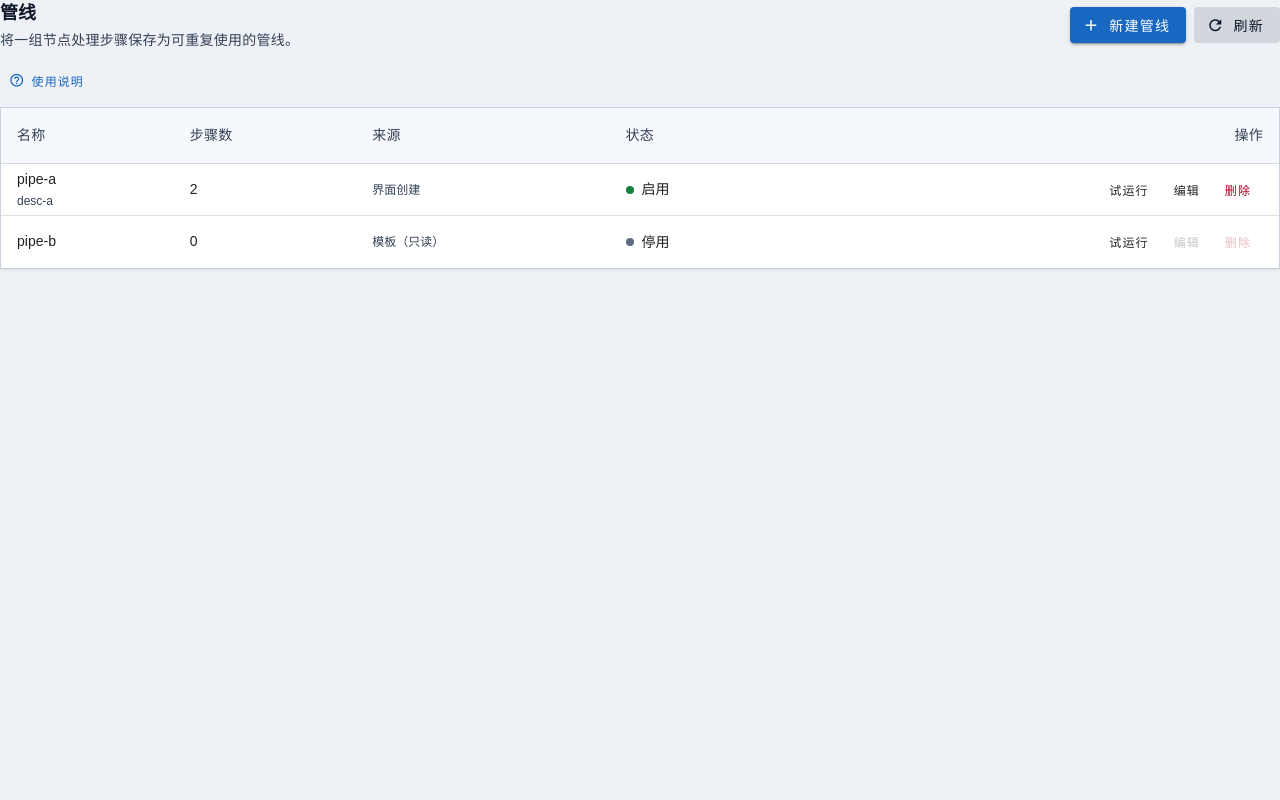
PipelinesPage › 删除确认对话框：确认后调 deletePipeline
The width and height of the screenshot is (1280, 800).
Click the button with test id "pipeline-delete" in the row of "pipe-a". click: (1237, 189)
box: [1212,175,1263,203]
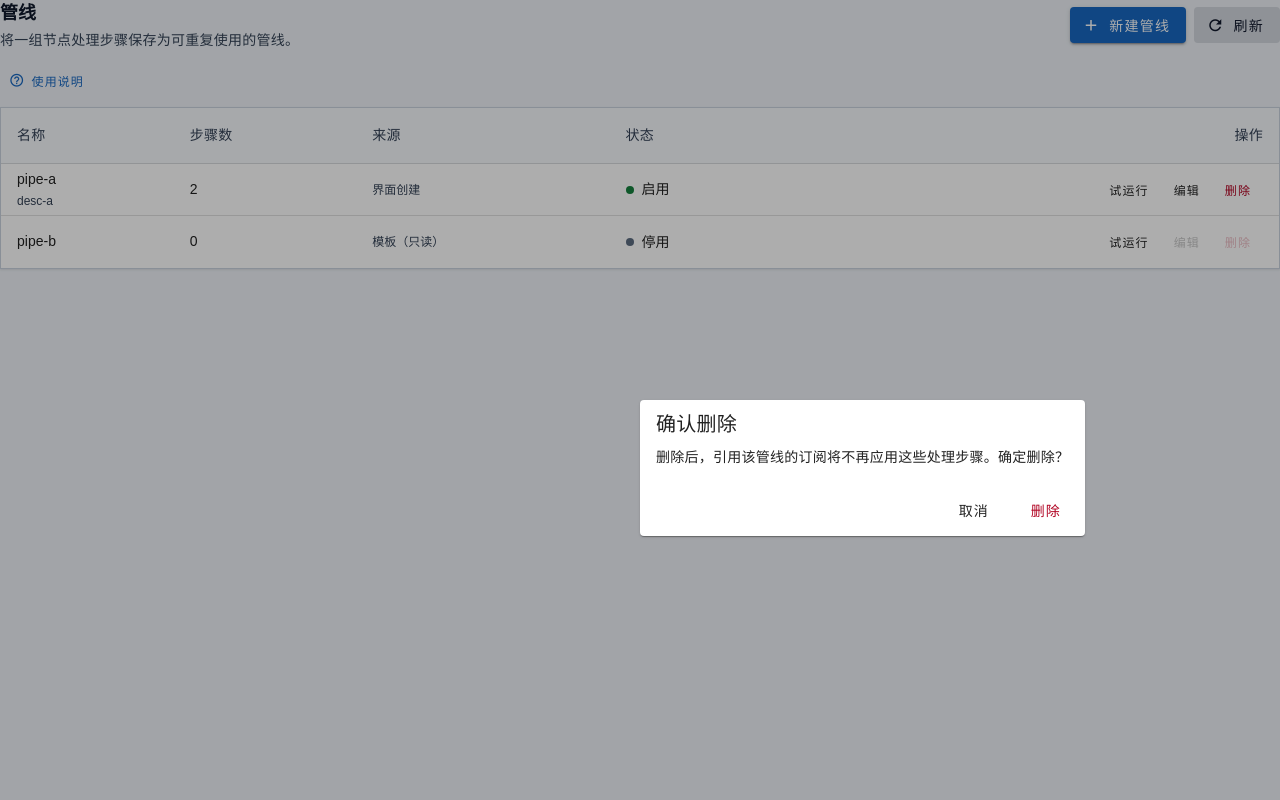
Expected: the text "引用该管线的订阅将不再应用这些处理步骤" is shown, [656,449,1069,465]
